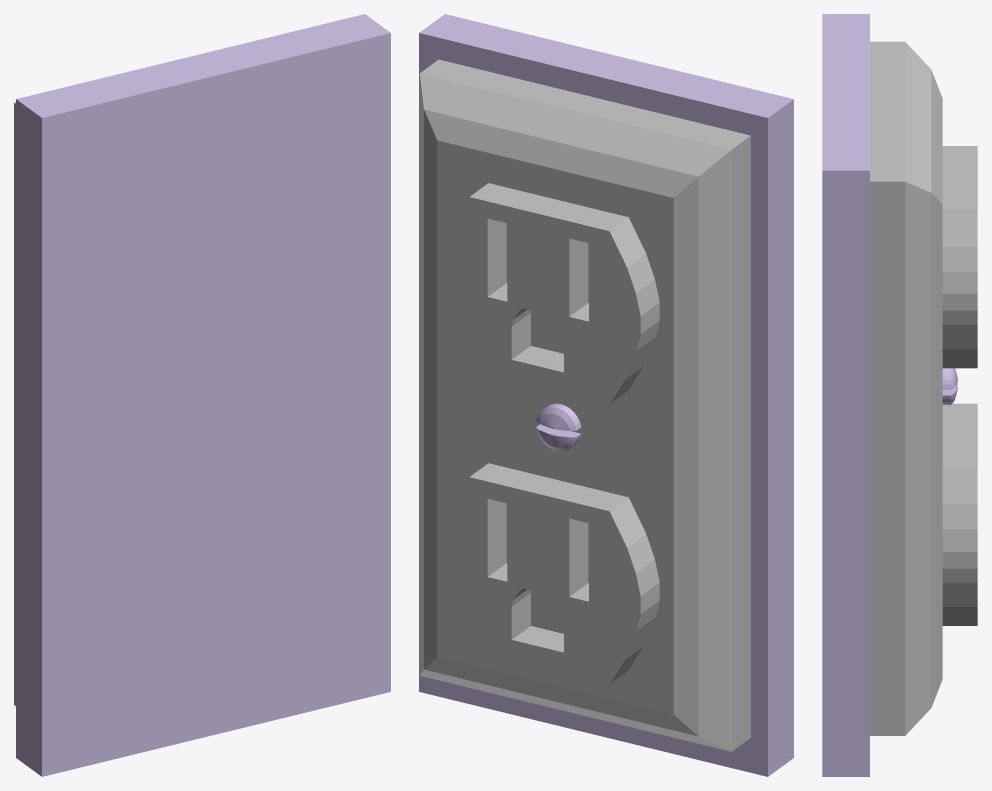
File: outlet.fbx
The picture shows the model from 3 angles, left to right: view 1: azimuth 30°, elevation 25°; view 2: azimuth 150°, elevation 25°; view 3: azimuth 270°, elevation 25°; orthographic projection. The views are drawn at different scales.
Parts seen in each view (by area): view 1: Cube.001, outlet box; view 2: outlet box, Cube.001, outlet hole.001, outlet hole, bolt.004; view 3: outlet box, Cube.001, outlet hole, outlet hole.001, bolt.004.
Boxes of the visible parts, x1=… form: Cube.001: x1=16, y1=14, x2=390, y2=776; outlet box: x1=14, y1=102, x2=15, y2=705; outlet box: x1=419, y1=59, x2=750, y2=751; Cube.001: x1=419, y1=14, x2=793, y2=776; outlet hole.001: x1=438, y1=463, x2=659, y2=684; outlet hole: x1=438, y1=183, x2=659, y2=404; bolt.004: x1=536, y1=403, x2=581, y2=451; outlet box: x1=870, y1=41, x2=942, y2=735; Cube.001: x1=822, y1=14, x2=869, y2=776; outlet hole: x1=942, y1=146, x2=977, y2=368; outlet hole.001: x1=942, y1=403, x2=977, y2=625; bolt.004: x1=942, y1=368, x2=957, y2=405.
Bounding box in the file's own units: 768 × 178 × 425.
